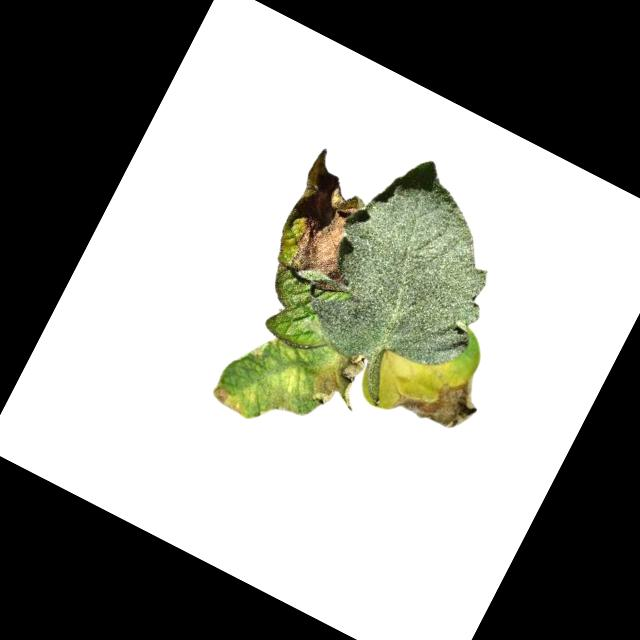Late_blight: (281, 180, 374, 292), (389, 351, 490, 444), (301, 339, 378, 421), (207, 381, 252, 418)
